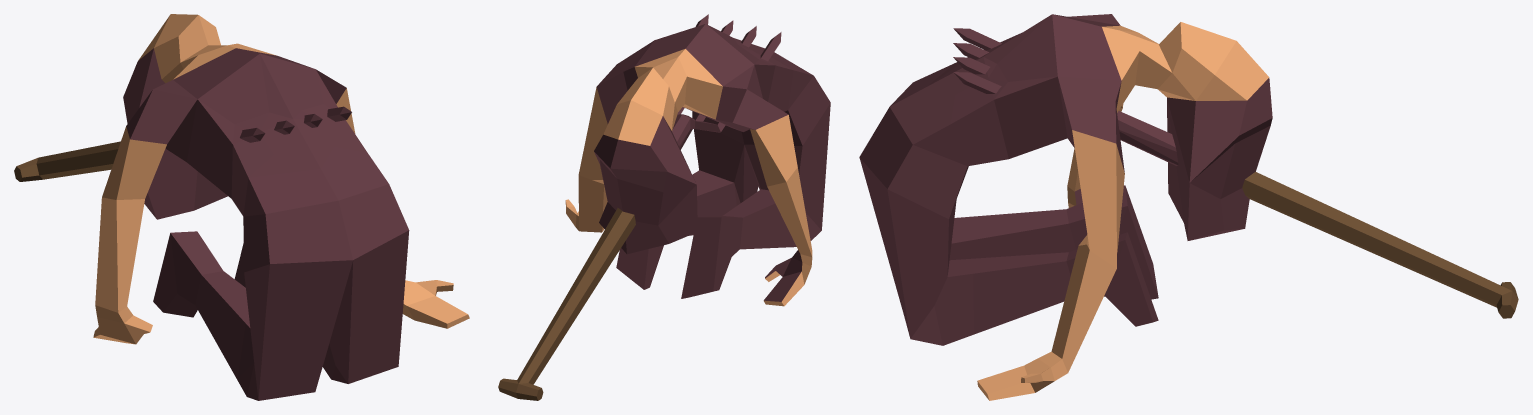
File: woman-casual-pants-dead-a.fbx
3 renders of one model, left to right at view 1: azimuth 30°, elevation 25°; view 2: azimuth 150°, elevation 25°; view 3: azimuth 270°, elevation 25°, orthographic. The views are drawn at different scales.
Visible parts, largest first — view 1: woman-casual-pants-dead-a; view 2: woman-casual-pants-dead-a; view 3: woman-casual-pants-dead-a.
Part boxes in pixels (<box>): woman-casual-pants-dead-a: <box>14,14,469,400</box>; woman-casual-pants-dead-a: <box>498,14,830,400</box>; woman-casual-pants-dead-a: <box>859,14,1518,400</box>.
Size of the model in its own units: 0.8361 by 0.7086 by 1.41.
